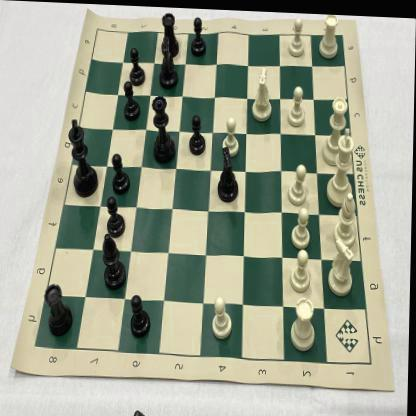black-king: (68, 114, 101, 200)
black-knight: (98, 230, 130, 292)
black-pawn: (129, 290, 157, 338), (106, 192, 130, 238), (110, 150, 132, 196), (187, 108, 208, 154), (188, 13, 209, 57), (121, 78, 142, 122), (128, 44, 149, 86)
black-queen: (150, 90, 178, 168)
black-rook: (43, 279, 76, 338), (159, 7, 181, 58)
white-bishop: (333, 186, 362, 245)
white-king: (326, 122, 358, 206)
white-knight: (328, 232, 360, 295), (216, 144, 243, 202), (250, 62, 276, 120), (158, 33, 180, 89)
white-pawn: (211, 290, 236, 339), (290, 244, 314, 290), (290, 203, 314, 247), (288, 161, 311, 205), (286, 82, 308, 126), (286, 13, 308, 56), (222, 112, 242, 156)
white-queen: (322, 91, 350, 164)
white-rook: (290, 292, 320, 352), (317, 11, 342, 57)
